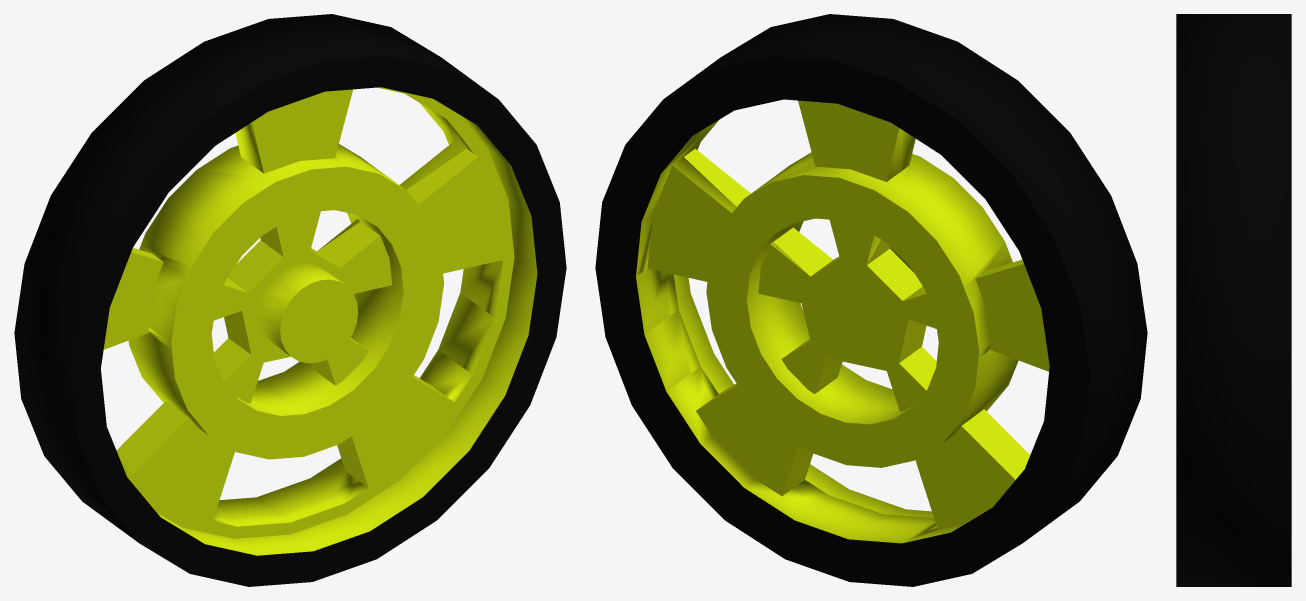
Rendered from right_wheel.dae.
3 views of the same model, side by side, from view 1: azimuth 30°, elevation 25°; view 2: azimuth 150°, elevation 25°; view 3: azimuth 270°, elevation 25° (orthographic).
Visible parts, largest first — view 1: Mesh1_Plastic_Wheel1_Model; view 2: Mesh1_Plastic_Wheel1_Model; view 3: Mesh1_Plastic_Wheel1_Model.
Boxes of the visible parts, x1,y1,x2,y2 form: Mesh1_Plastic_Wheel1_Model: (14, 14, 566, 586); Mesh1_Plastic_Wheel1_Model: (595, 14, 1147, 586); Mesh1_Plastic_Wheel1_Model: (1176, 14, 1291, 586).
Bounding box in the file's own units: 0.065 × 0.013 × 0.065.
